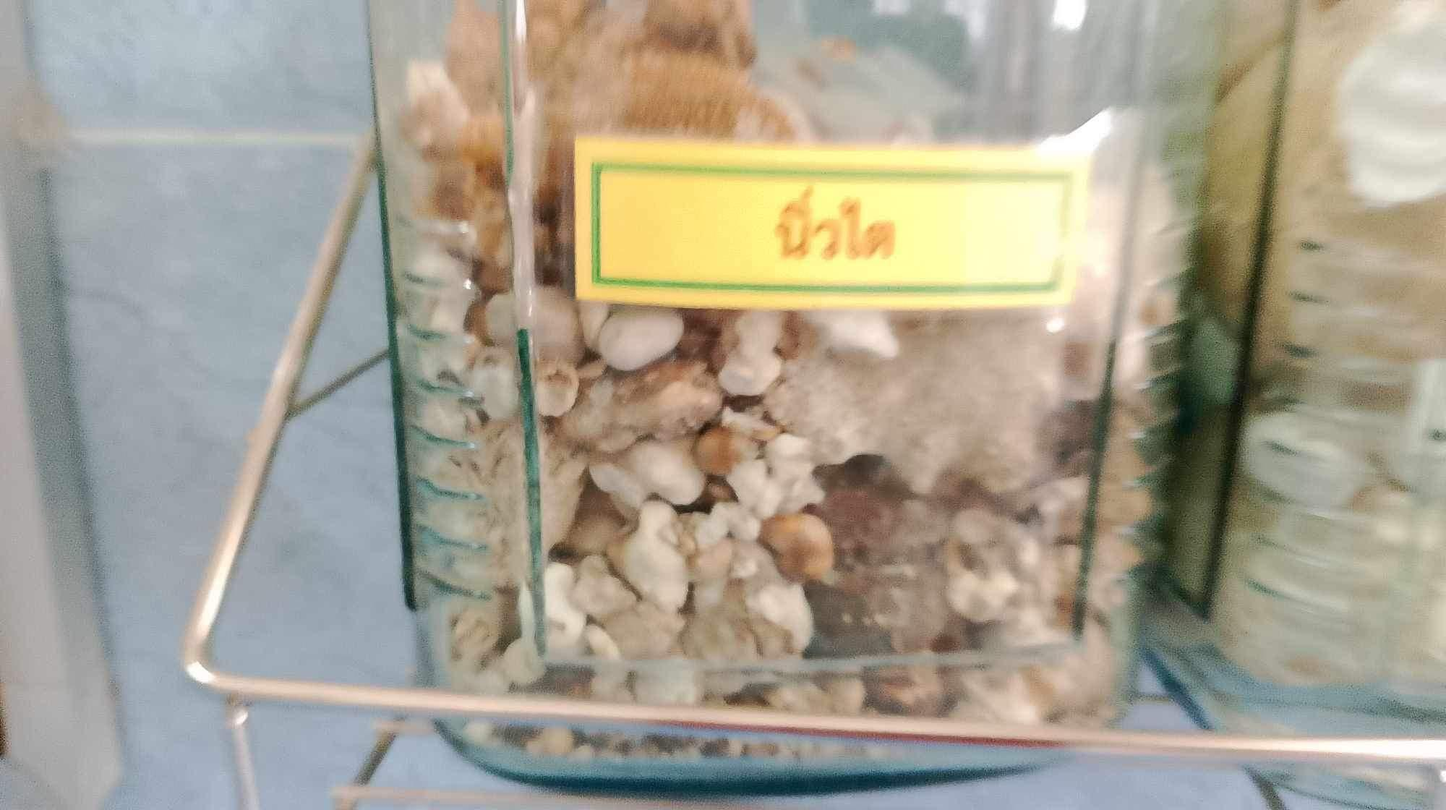General: (568, 132, 1093, 315)
Infectious: (385, 1, 1167, 744)
Sharps: (499, 1, 549, 669)
